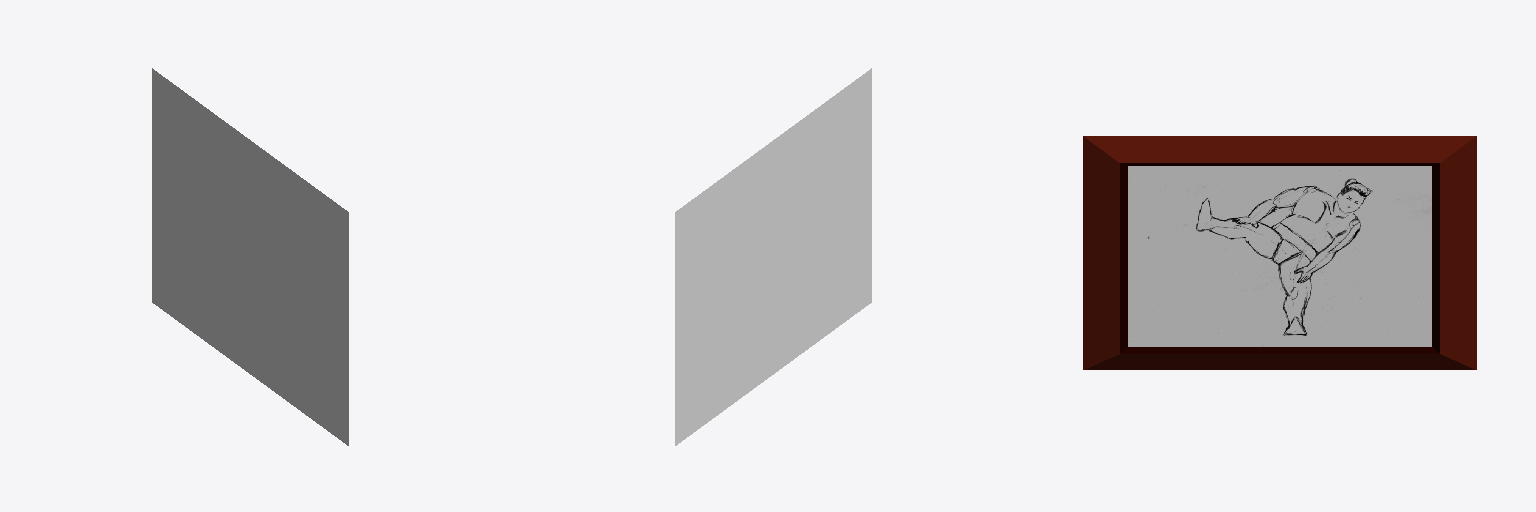
3 renders of one model, left to right at view 1: azimuth 30°, elevation 25°; view 2: azimuth 150°, elevation 25°; view 3: azimuth 270°, elevation 25°, orthographic.
Visible parts, largest first — view 1: Cube; view 2: Cube; view 3: Cube.
Boxes of the visible parts, <box> form: Cube: <box>152,68,348,445</box>; Cube: <box>675,68,871,445</box>; Cube: <box>1083,136,1476,369</box>.
Bounding box in the file's own units: 0.0444 × 0.9011 × 1.37.
Materials: 4 (1 with a texture image).